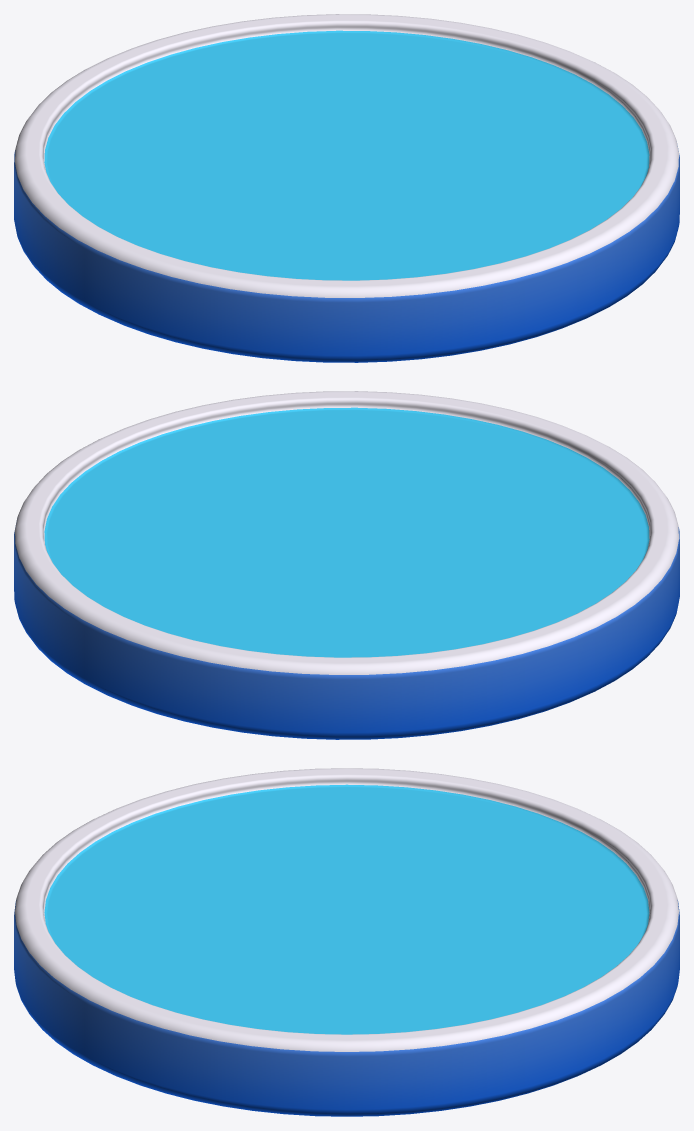
The model's file is round_platform_8.glb.
3 renders of one model, top to bottom at view 1: azimuth 30°, elevation 25°; view 2: azimuth 150°, elevation 25°; view 3: azimuth 270°, elevation 25°, orthographic.
Parts seen in each view (by area): view 1: round_platform_8; view 2: round_platform_8; view 3: round_platform_8.
Part boxes in pixels (x1,y1,x2,y2): round_platform_8: (14, 14, 679, 362); round_platform_8: (14, 391, 679, 739); round_platform_8: (14, 768, 679, 1116).
Bounding box in the file's own units: 8 × 1 × 8.
Materials: 1 (1 with a texture image).
